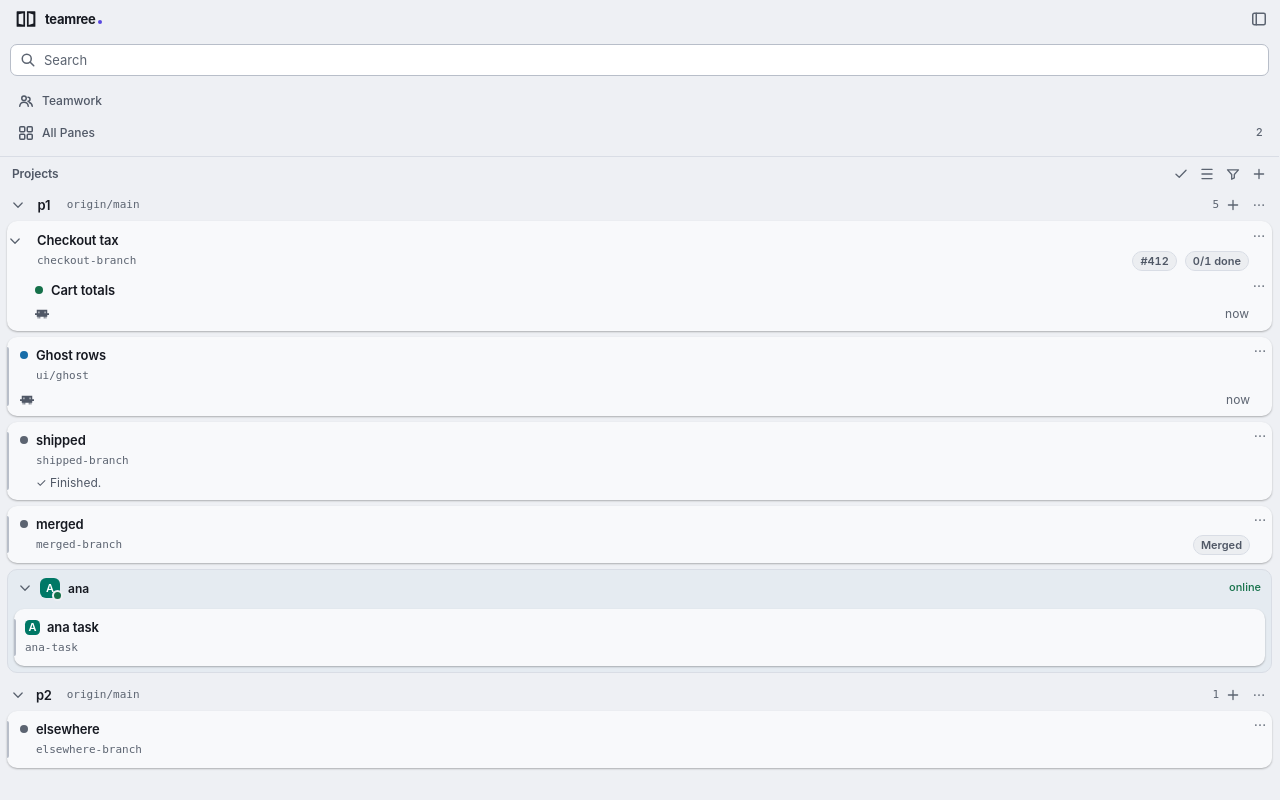
the chips › Hide Done folds done and landed rows into a count per project, which unfolds
Click the button named "Hide Done" at x=1181, y=174, box [1169, 162, 1193, 186]
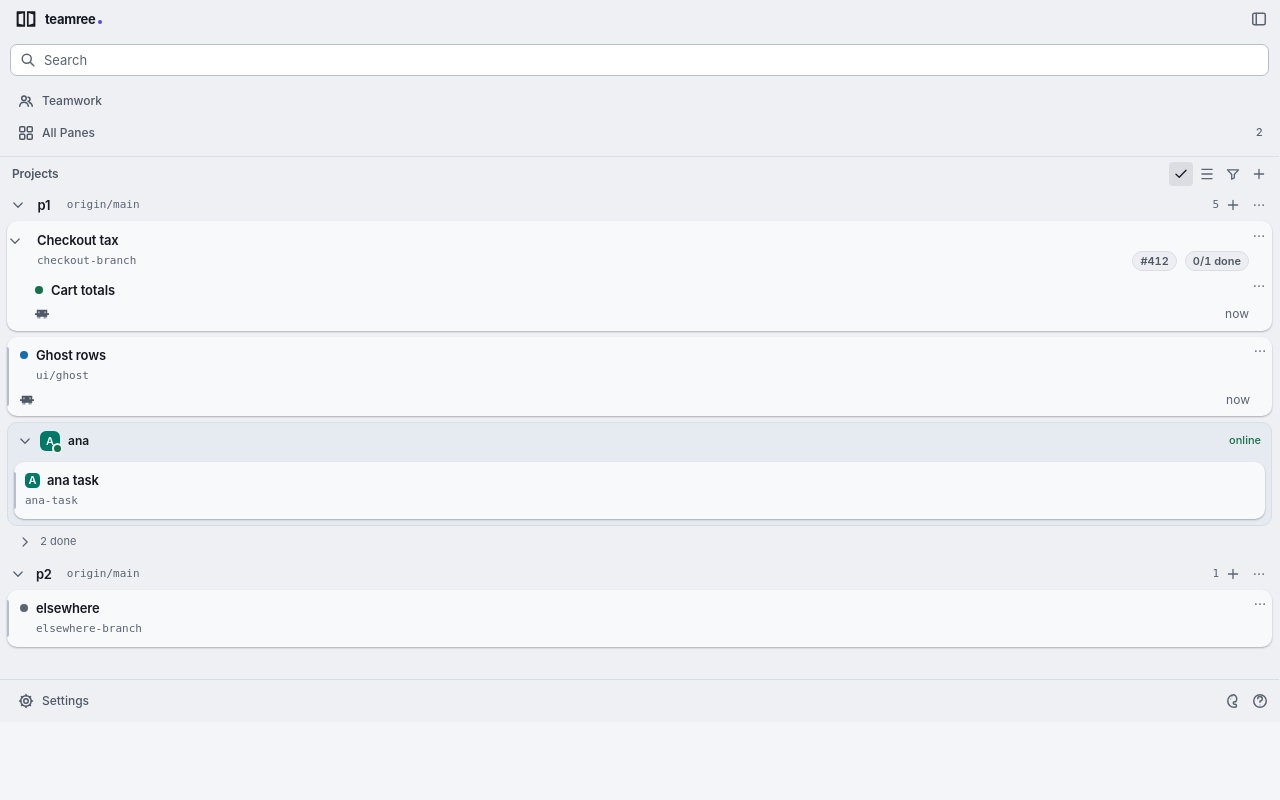
Click the list item "2 done" at x=58, y=541, box [7, 532, 1272, 552]
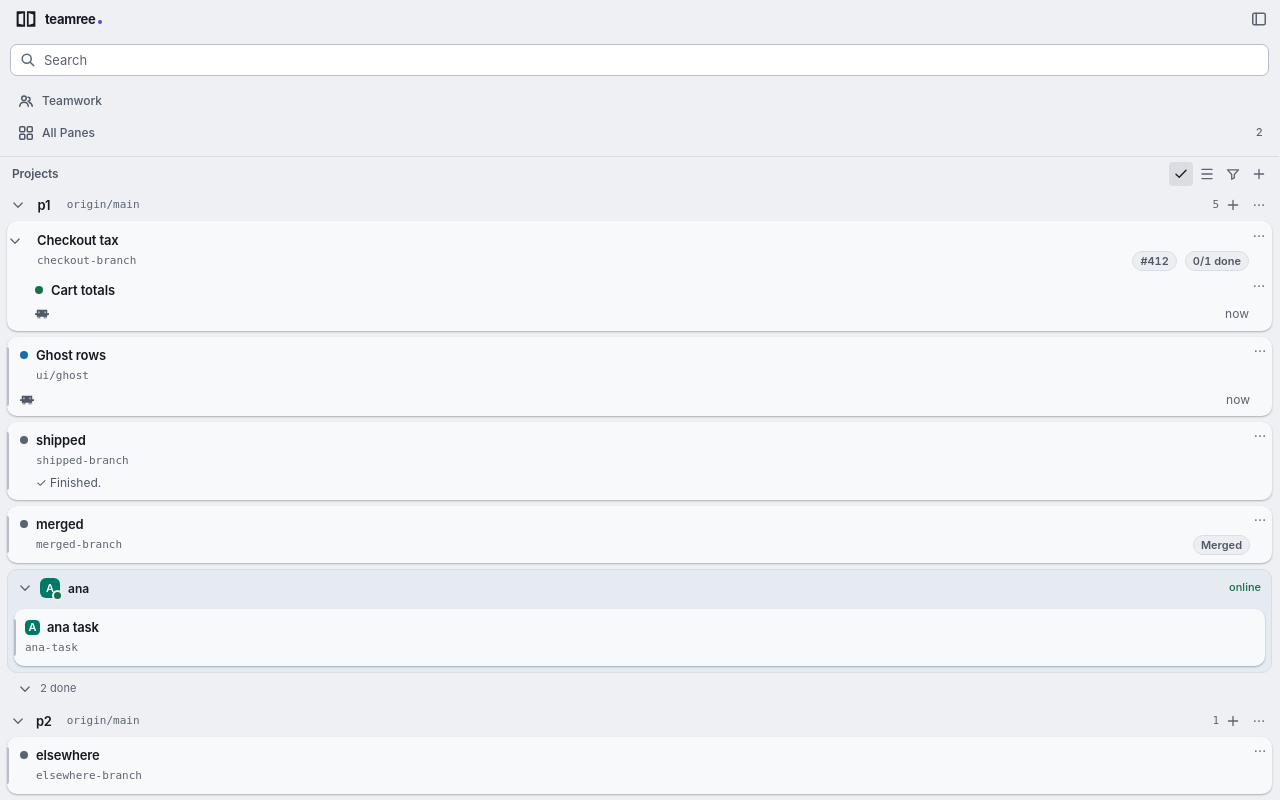
Expected: the list item "2 done" is expanded, [7, 679, 1272, 699]
